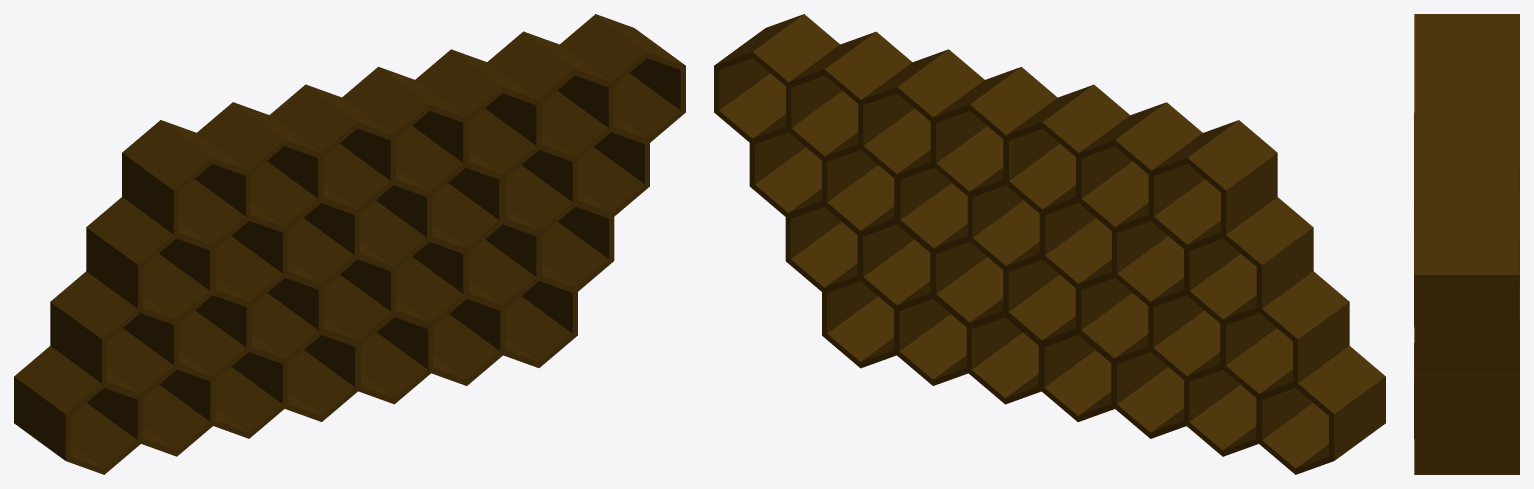
The model's file is Shelving.fbx.
The picture shows the model from 3 angles, left to right: view 1: azimuth 30°, elevation 25°; view 2: azimuth 150°, elevation 25°; view 3: azimuth 270°, elevation 25°; orthographic projection. The views are drawn at different scales.
Visible parts, largest first — view 1: polySurface29; view 2: polySurface29; view 3: polySurface29.
Boxes of the visible parts, x1,y1,x2,y2 form: polySurface29: (14,14,685,474); polySurface29: (714,14,1385,474); polySurface29: (1414,14,1519,474).
Size of the model in its own units: 13.88 by 6.23 by 2.
